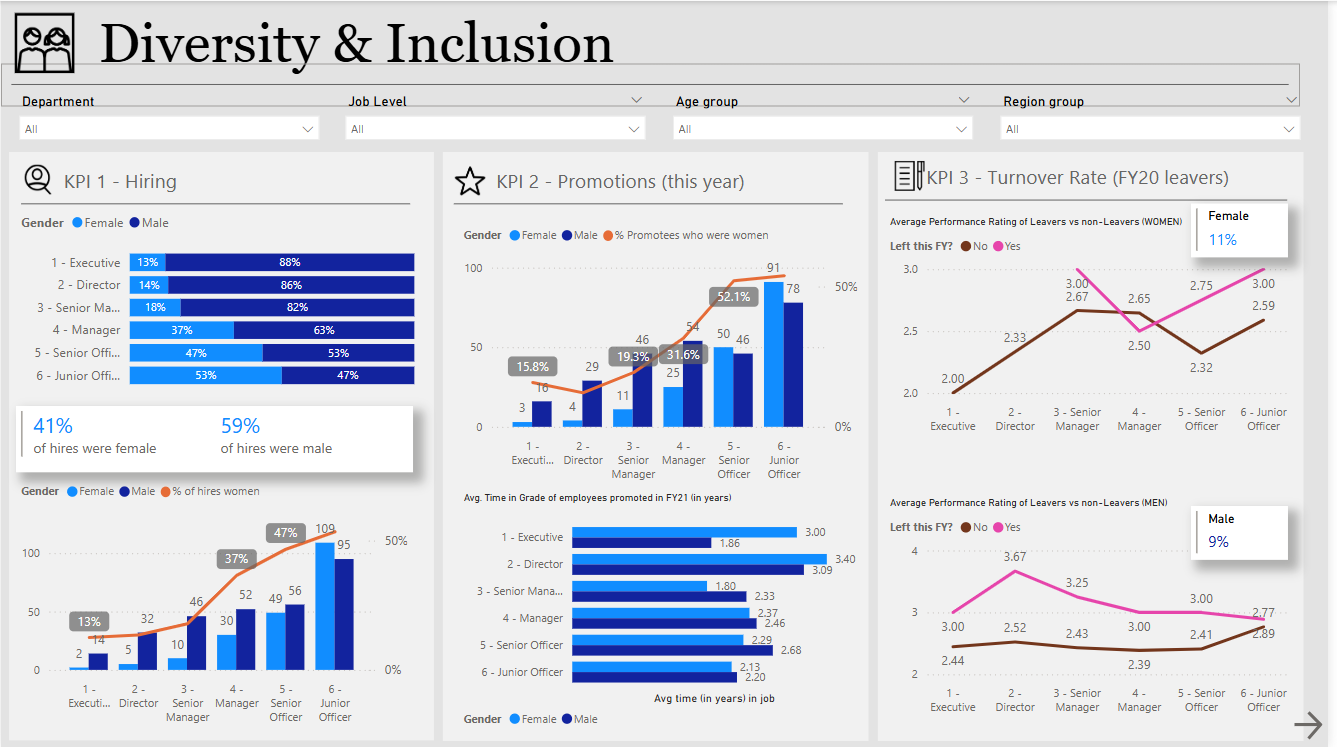

The dashboard page shown, as its layout file describes it:
{"tool":"powerbi","page":{"name":"HR Manager (1/2)","canvas":[1280,720],"ordinal":0},"visuals":[{"type":"textbox","box":[88.7,4.8,1172.9,75.2],"z":0},{"type":"basicShape","box":[0,60.8,1253,40.5],"z":1000},{"type":"basicShape","box":[3.9,139.9,418.6,579.7],"z":2000},{"type":"hundredPercentStackedBarChart","fields":{"Series":["HR Manager.Gender"],"Y":["CountNonNull(HR Manager.Employee ID)"],"Category":["HR Manager.Job Level after FY20 promotions"]},"box":[14.5,193.9,389.7,190],"z":3000},{"type":"multiRowCard","fields":{"Values":["HR Manager.% of hires women","HR Manager.% of hires men"]},"box":[14.5,390.7,382.9,63.7],"z":4000},{"type":"lineClusteredColumnComboChart","fields":{"Category":["HR Manager.Job Level after FY20 promotions"],"Series":["HR Manager.Gender"],"Y":["CountNonNull(HR Manager.Employee ID)"],"Y2":["HR Manager.% of hires women"]},"box":[14.5,455.3,382.9,250.8],"z":5000},{"type":"textbox","box":[55,155.3,315.4,35.7],"z":6000},{"type":"basicShape","box":[9.6,175.6,395.5,39.5],"z":7000},{"type":"basicShape","box":[422.5,139.9,419.6,579.7],"z":8000},{"type":"textbox","box":[473,155.7,315.4,35.7],"z":9000},{"type":"basicShape","box":[427.7,175.9,395.5,39.5],"z":10000},{"type":"image","box":[433.1,153.4,39.5,40.5],"z":11000},{"type":"lineClusteredColumnComboChart","fields":{"Y":["CountNonNull(HR Manager.Employee ID)"],"Series":["HR Manager.Gender"],"Y2":["HR Manager.% Promotees who were women"],"Category":["HR Manager.Job Level after FY21 promotions"]},"box":[441.8,207.4,389.7,263.3],"z":12000},{"type":"image","box":[8.7,0,67.5,81],"z":14000},{"type":"image","box":[15.4,153.4,39.5,38.6],"z":15000},{"type":"basicShape","box":[842.1,139.9,419.6,579.7],"z":16000},{"type":"basicShape","box":[843.4,173,408,39.5],"z":17000},{"type":"textbox","box":[888.5,152.5,315.4,35.7],"z":18000},{"type":"clusteredBarChart","title":"Avg. Time in Grade of employees promoted in FY21 (in years)","fields":{"Category":["HR Manager.Job Level after FY20 promotions"],"Series":["HR Manager.Gender"],"Y":["Avg(HR Manager.Time in Job Level @01.07.2020)"]},"box":[441.8,473.6,389.7,236.3],"z":19000},{"type":"lineChart","title":"Average Performance Rating of Leavers vs non-Leavers (WOMEN)","fields":{"Category":["HR Manager.Job Level after FY20 promotions"],"Y":["Avg(HR Manager.FY19 Performance Rating)"],"Series":["HR Manager.FY20 leaver?"]},"box":[852.7,207.4,398.4,218],"z":20000},{"type":"lineChart","title":"Average Performance Rating of Leavers vs non-Leavers (MEN)","fields":{"Category":["HR Manager.Job Level after FY20 promotions"],"Y":["Avg(HR Manager.FY19 Performance Rating)"],"Series":["HR Manager.FY20 leaver?"]},"box":[852.7,479.4,398.4,218],"z":21000},{"type":"multiRowCard","fields":{"Values":["HR Manager.Gender","HR Manager.% Turnover"]},"box":[1148.8,195.8,93.6,52.1],"z":22000},{"type":"multiRowCard","fields":{"Values":["HR Manager.Gender","HR Manager.% Turnover"]},"box":[1148.8,487.1,93.6,52.1],"z":23000},{"type":"slicer","fields":{"Values":["HR Manager.Last Department in FY20"]},"box":[6.8,83.9,310,55.9],"z":24000},{"type":"slicer","fields":{"Values":["HR Manager.Job Level after FY20 promotions"]},"box":[322.5,83.9,310,55.9],"z":25000},{"type":"slicer","fields":{"Values":["HR Manager.Age group"]},"box":[638.2,83.9,310,55.9],"z":26000},{"type":"slicer","fields":{"Values":["HR Manager.Broad region group: nationality 1"]},"box":[954,83.9,310,55.9],"z":27000},{"type":"image","box":[852.7,149.5,47.3,38.6],"z":28000},{"type":"actionButton","box":[1243.1,679.1,36.9,40.2],"z":29000}]}

Visuals, with their boxes in screenshot pixels (x1, y1, x2, y2), scaled from the page's 1280x720 canvas onto the 1337x747 screenshot:
textbox: <bbox>93, 5, 1318, 83</bbox>
basicShape: <bbox>0, 63, 1309, 105</bbox>
basicShape: <bbox>4, 145, 441, 746</bbox>
hundredPercentStackedBarChart - HR Manager.Gender x CountNonNull(HR Manager.Employee ID): <bbox>15, 201, 422, 398</bbox>
multiRowCard - HR Manager.% of hires women x HR Manager.% of hires men: <bbox>15, 405, 415, 471</bbox>
lineClusteredColumnComboChart - HR Manager.Job Level after FY20 promotions x HR Manager.Gender: <bbox>15, 472, 415, 733</bbox>
textbox: <bbox>57, 161, 387, 198</bbox>
basicShape: <bbox>10, 182, 423, 223</bbox>
basicShape: <bbox>441, 145, 880, 746</bbox>
textbox: <bbox>494, 162, 824, 199</bbox>
basicShape: <bbox>447, 182, 860, 223</bbox>
image: <bbox>452, 159, 494, 201</bbox>
lineClusteredColumnComboChart - CountNonNull(HR Manager.Employee ID) x HR Manager.Gender: <bbox>461, 215, 869, 488</bbox>
image: <bbox>9, 0, 80, 84</bbox>
image: <bbox>16, 159, 57, 199</bbox>
basicShape: <bbox>880, 145, 1318, 746</bbox>
basicShape: <bbox>881, 179, 1307, 220</bbox>
textbox: <bbox>928, 158, 1258, 195</bbox>
"Avg. Time in Grade of employees promoted in FY21 (in years)" clusteredBarChart: <bbox>461, 491, 869, 737</bbox>
"Average Performance Rating of Leavers vs non-Leavers (WOMEN)" lineChart: <bbox>891, 215, 1307, 441</bbox>
"Average Performance Rating of Leavers vs non-Leavers (MEN)" lineChart: <bbox>891, 497, 1307, 724</bbox>
multiRowCard - HR Manager.Gender x HR Manager.% Turnover: <bbox>1200, 203, 1298, 257</bbox>
multiRowCard - HR Manager.Gender x HR Manager.% Turnover: <bbox>1200, 505, 1298, 559</bbox>
slicer - HR Manager.Last Department in FY20: <bbox>7, 87, 331, 145</bbox>
slicer - HR Manager.Job Level after FY20 promotions: <bbox>337, 87, 661, 145</bbox>
slicer - HR Manager.Age group: <bbox>667, 87, 990, 145</bbox>
slicer - HR Manager.Broad region group: nationality 1: <bbox>996, 87, 1320, 145</bbox>
image: <bbox>891, 155, 940, 195</bbox>
actionButton: <bbox>1298, 705, 1336, 746</bbox>
